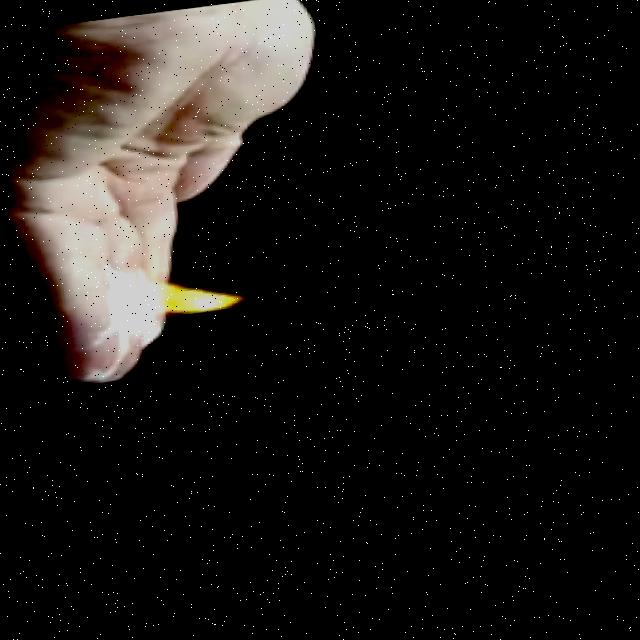Fire: (127, 262, 267, 319)
